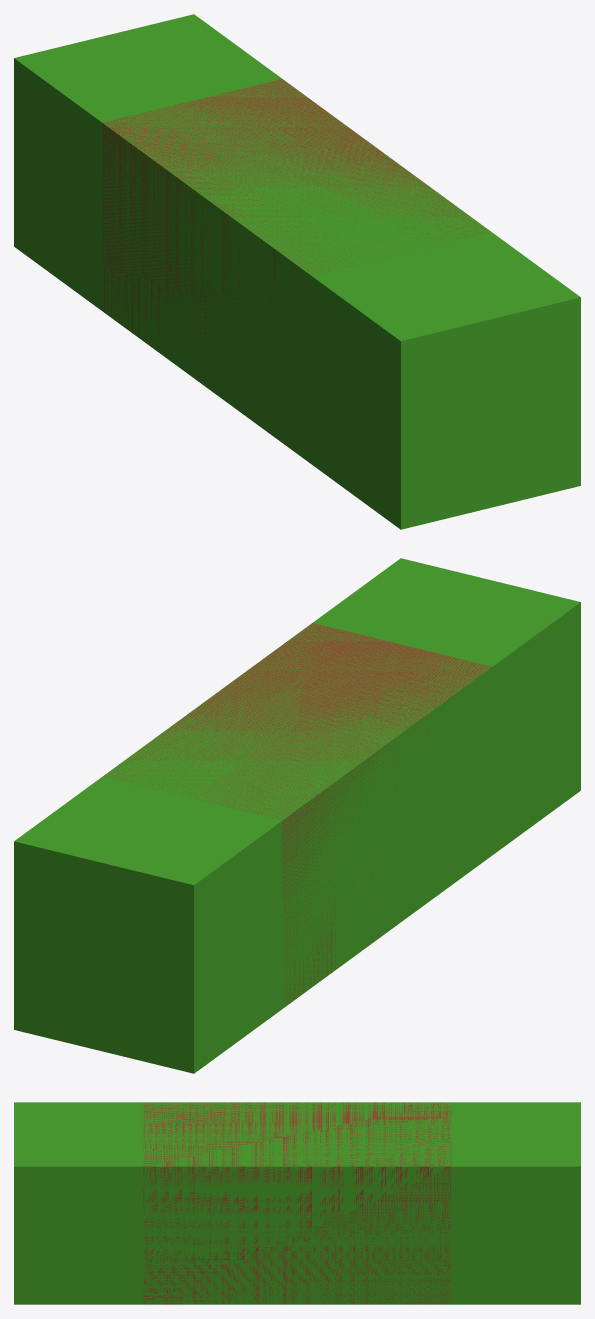
Rendered from brick.obj.
3 renders of one model, top to bottom at view 1: azimuth 30°, elevation 25°; view 2: azimuth 150°, elevation 25°; view 3: azimuth 270°, elevation 25°, orthographic. The views are drawn at different scales.
Parts seen in each view (by area): view 1: paddle_Cube.002, brick_Cube.001; view 2: paddle_Cube.002, brick_Cube.001; view 3: paddle_Cube.002, brick_Cube.001.
Part boxes in pixels (box(x1,y1,x2,y2)): paddle_Cube.002: box(14, 14, 580, 529); brick_Cube.001: box(102, 79, 489, 384); paddle_Cube.002: box(14, 558, 580, 1073); brick_Cube.001: box(103, 623, 491, 1005); paddle_Cube.002: box(14, 1102, 580, 1304); brick_Cube.001: box(143, 1102, 451, 1304).
Bounding box in the file's own units: 2 × 2 × 7.44.
